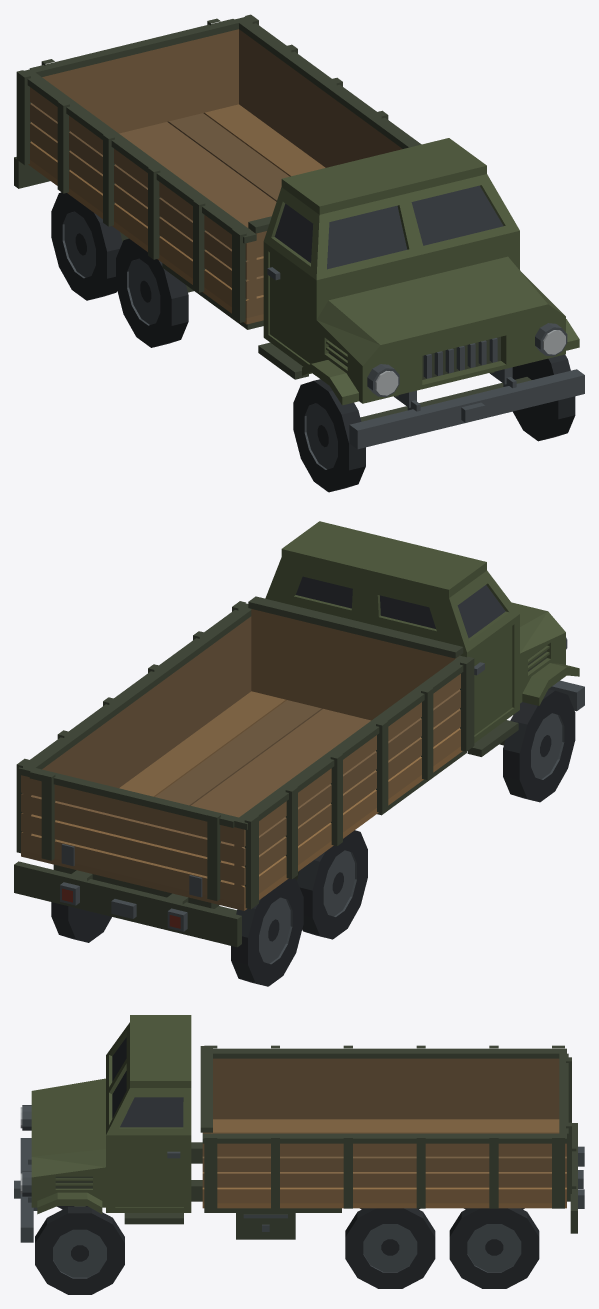
Rendered from truck.glb.
3 views of the same model, one above another, from view 1: azimuth 30°, elevation 25°; view 2: azimuth 150°, elevation 25°; view 3: azimuth 270°, elevation 25° (orthographic). The views are drawn at different scales.
Visible parts, largest first — view 1: truck-body, tyre-fl, tyre-ml, tyre-rl, tyre-fr; view 2: truck-body, tyre-fl, tyre-rl, tyre-ml, tyre-rr; view 3: truck-body, tyre-fr, tyre-mr, tyre-rr, stowage-box.
Part boxes in pixels (x1,y1,x2,y2): truck-body: (14,14,584,449); tyre-fl: (293,379,365,492); tyre-ml: (116,238,188,347); tyre-rl: (51,192,122,300); tyre-fr: (512,354,575,441); truck-body: (14,521,584,947); tyre-fl: (503,689,575,802); tyre-rl: (231,878,303,986); tyre-ml: (297,830,367,939); tyre-rr: (51,902,111,942); truck-body: (14,1015,584,1242); tyre-fr: (35,1206,124,1294); tyre-mr: (345,1208,435,1288); tyre-rr: (449,1208,539,1288); stowage-box: (236,1213,295,1239).
Size of the model in its own units: 2.38 by 2.4 by 6.14.
